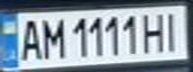1: (66, 14, 90, 57), (121, 11, 142, 55), (103, 12, 124, 56), (87, 12, 106, 57)
A: (15, 16, 45, 62)
H: (139, 9, 169, 54)
I: (157, 8, 184, 52)
M: (36, 15, 66, 60)
